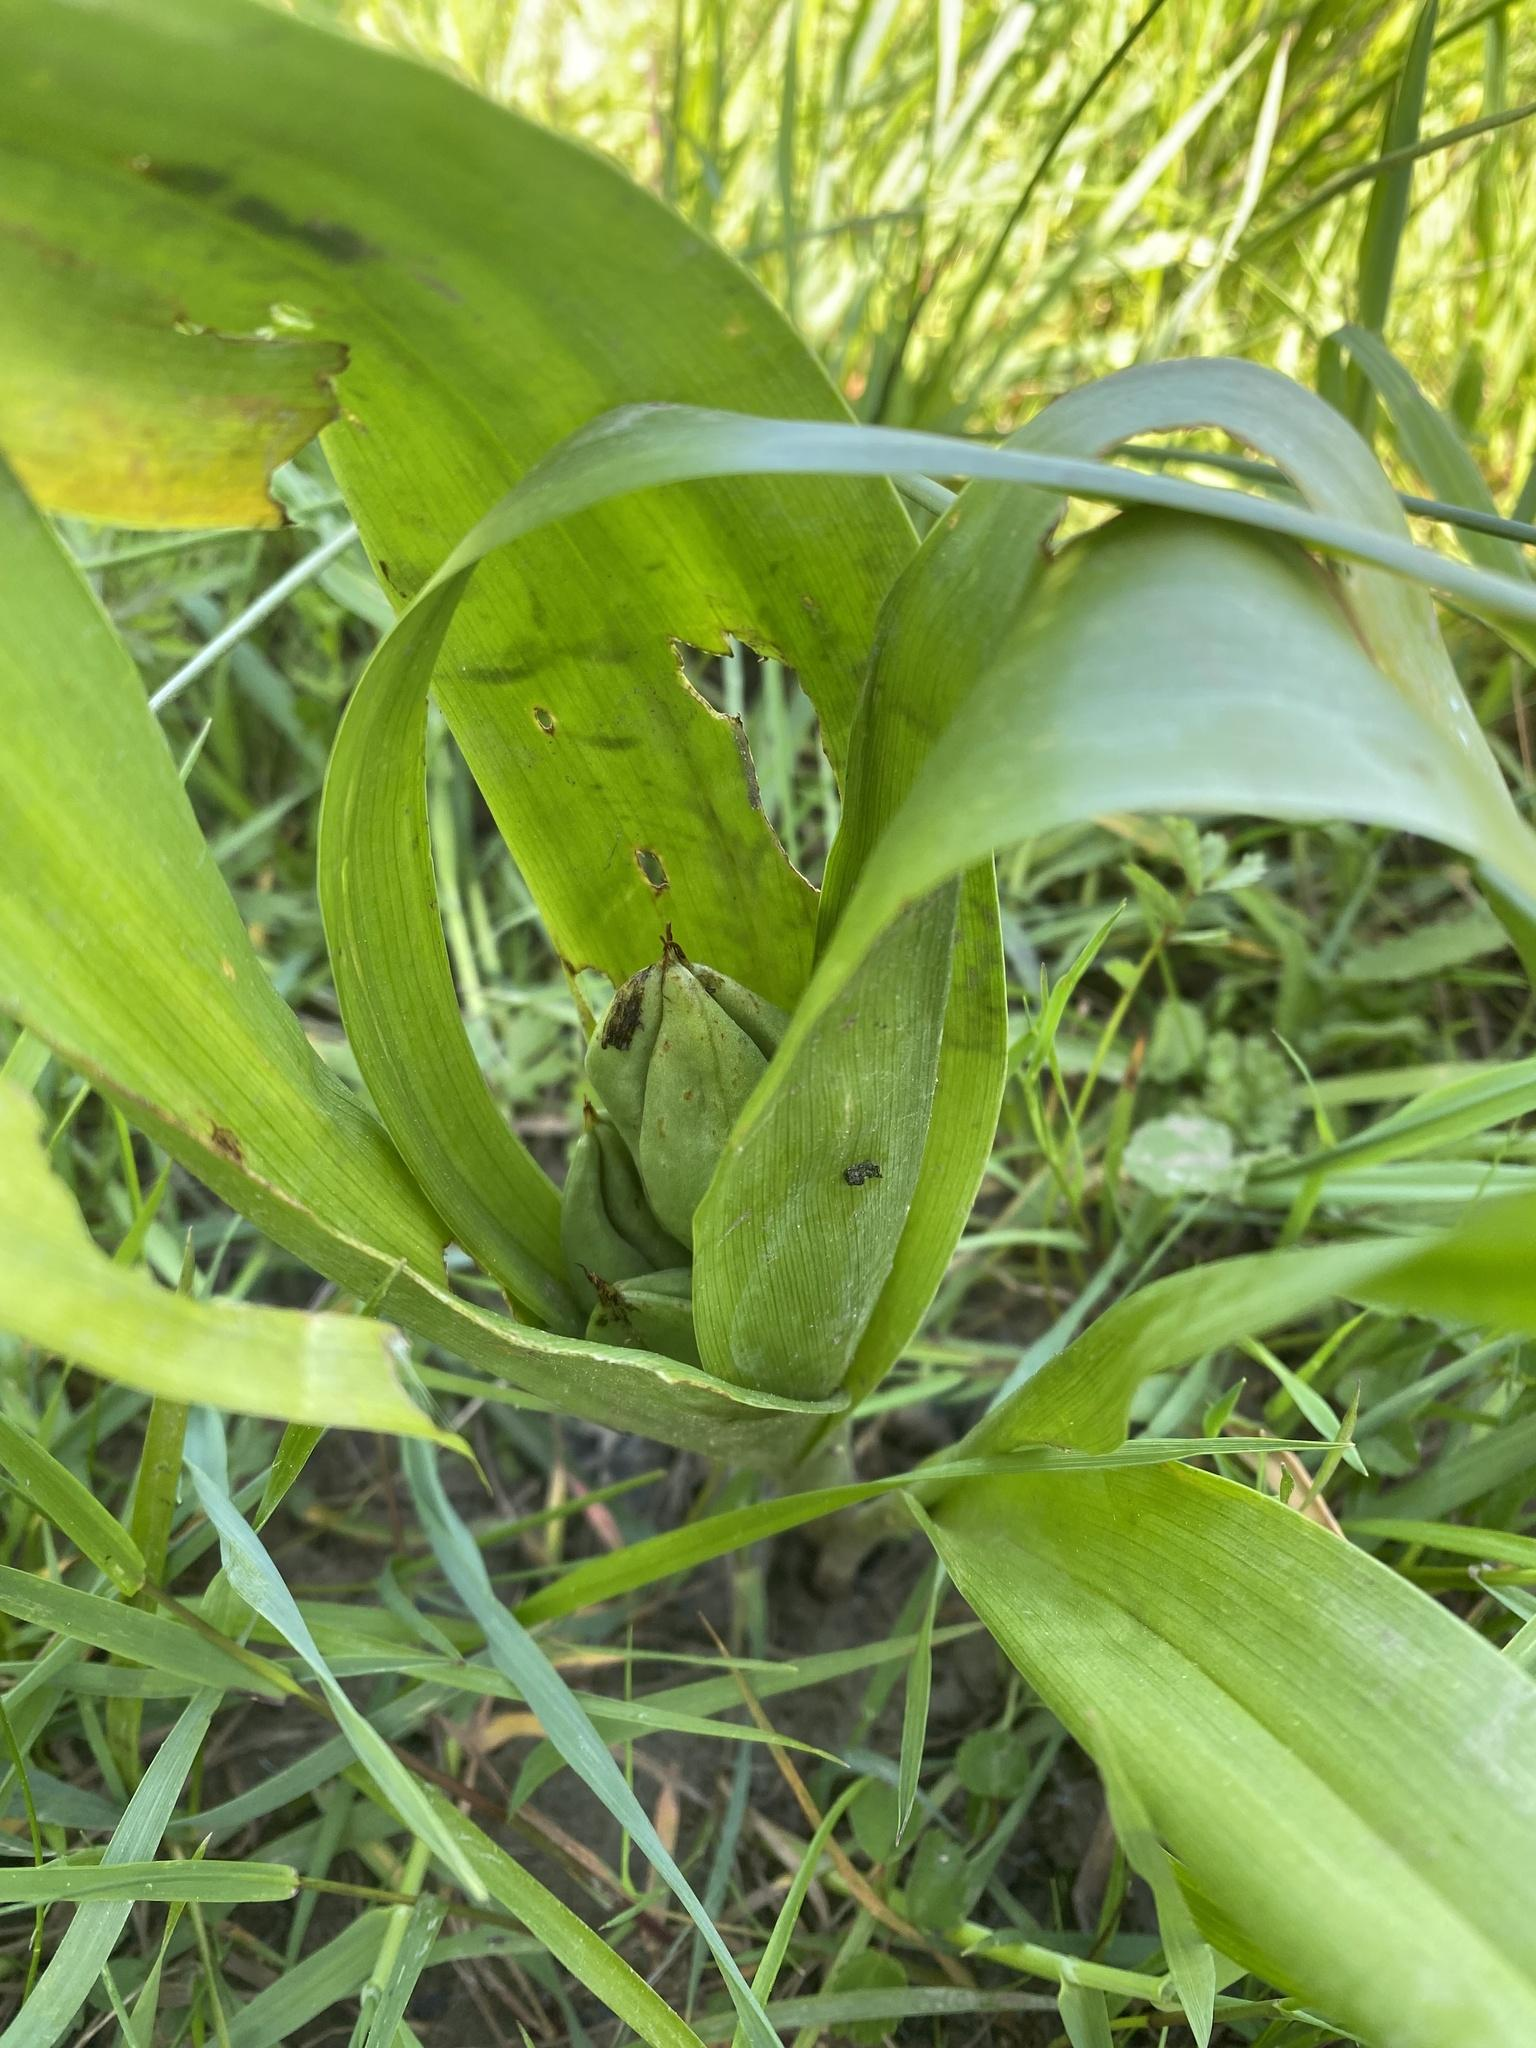Colchicum autumnale L: (10, 3, 1496, 1624)
